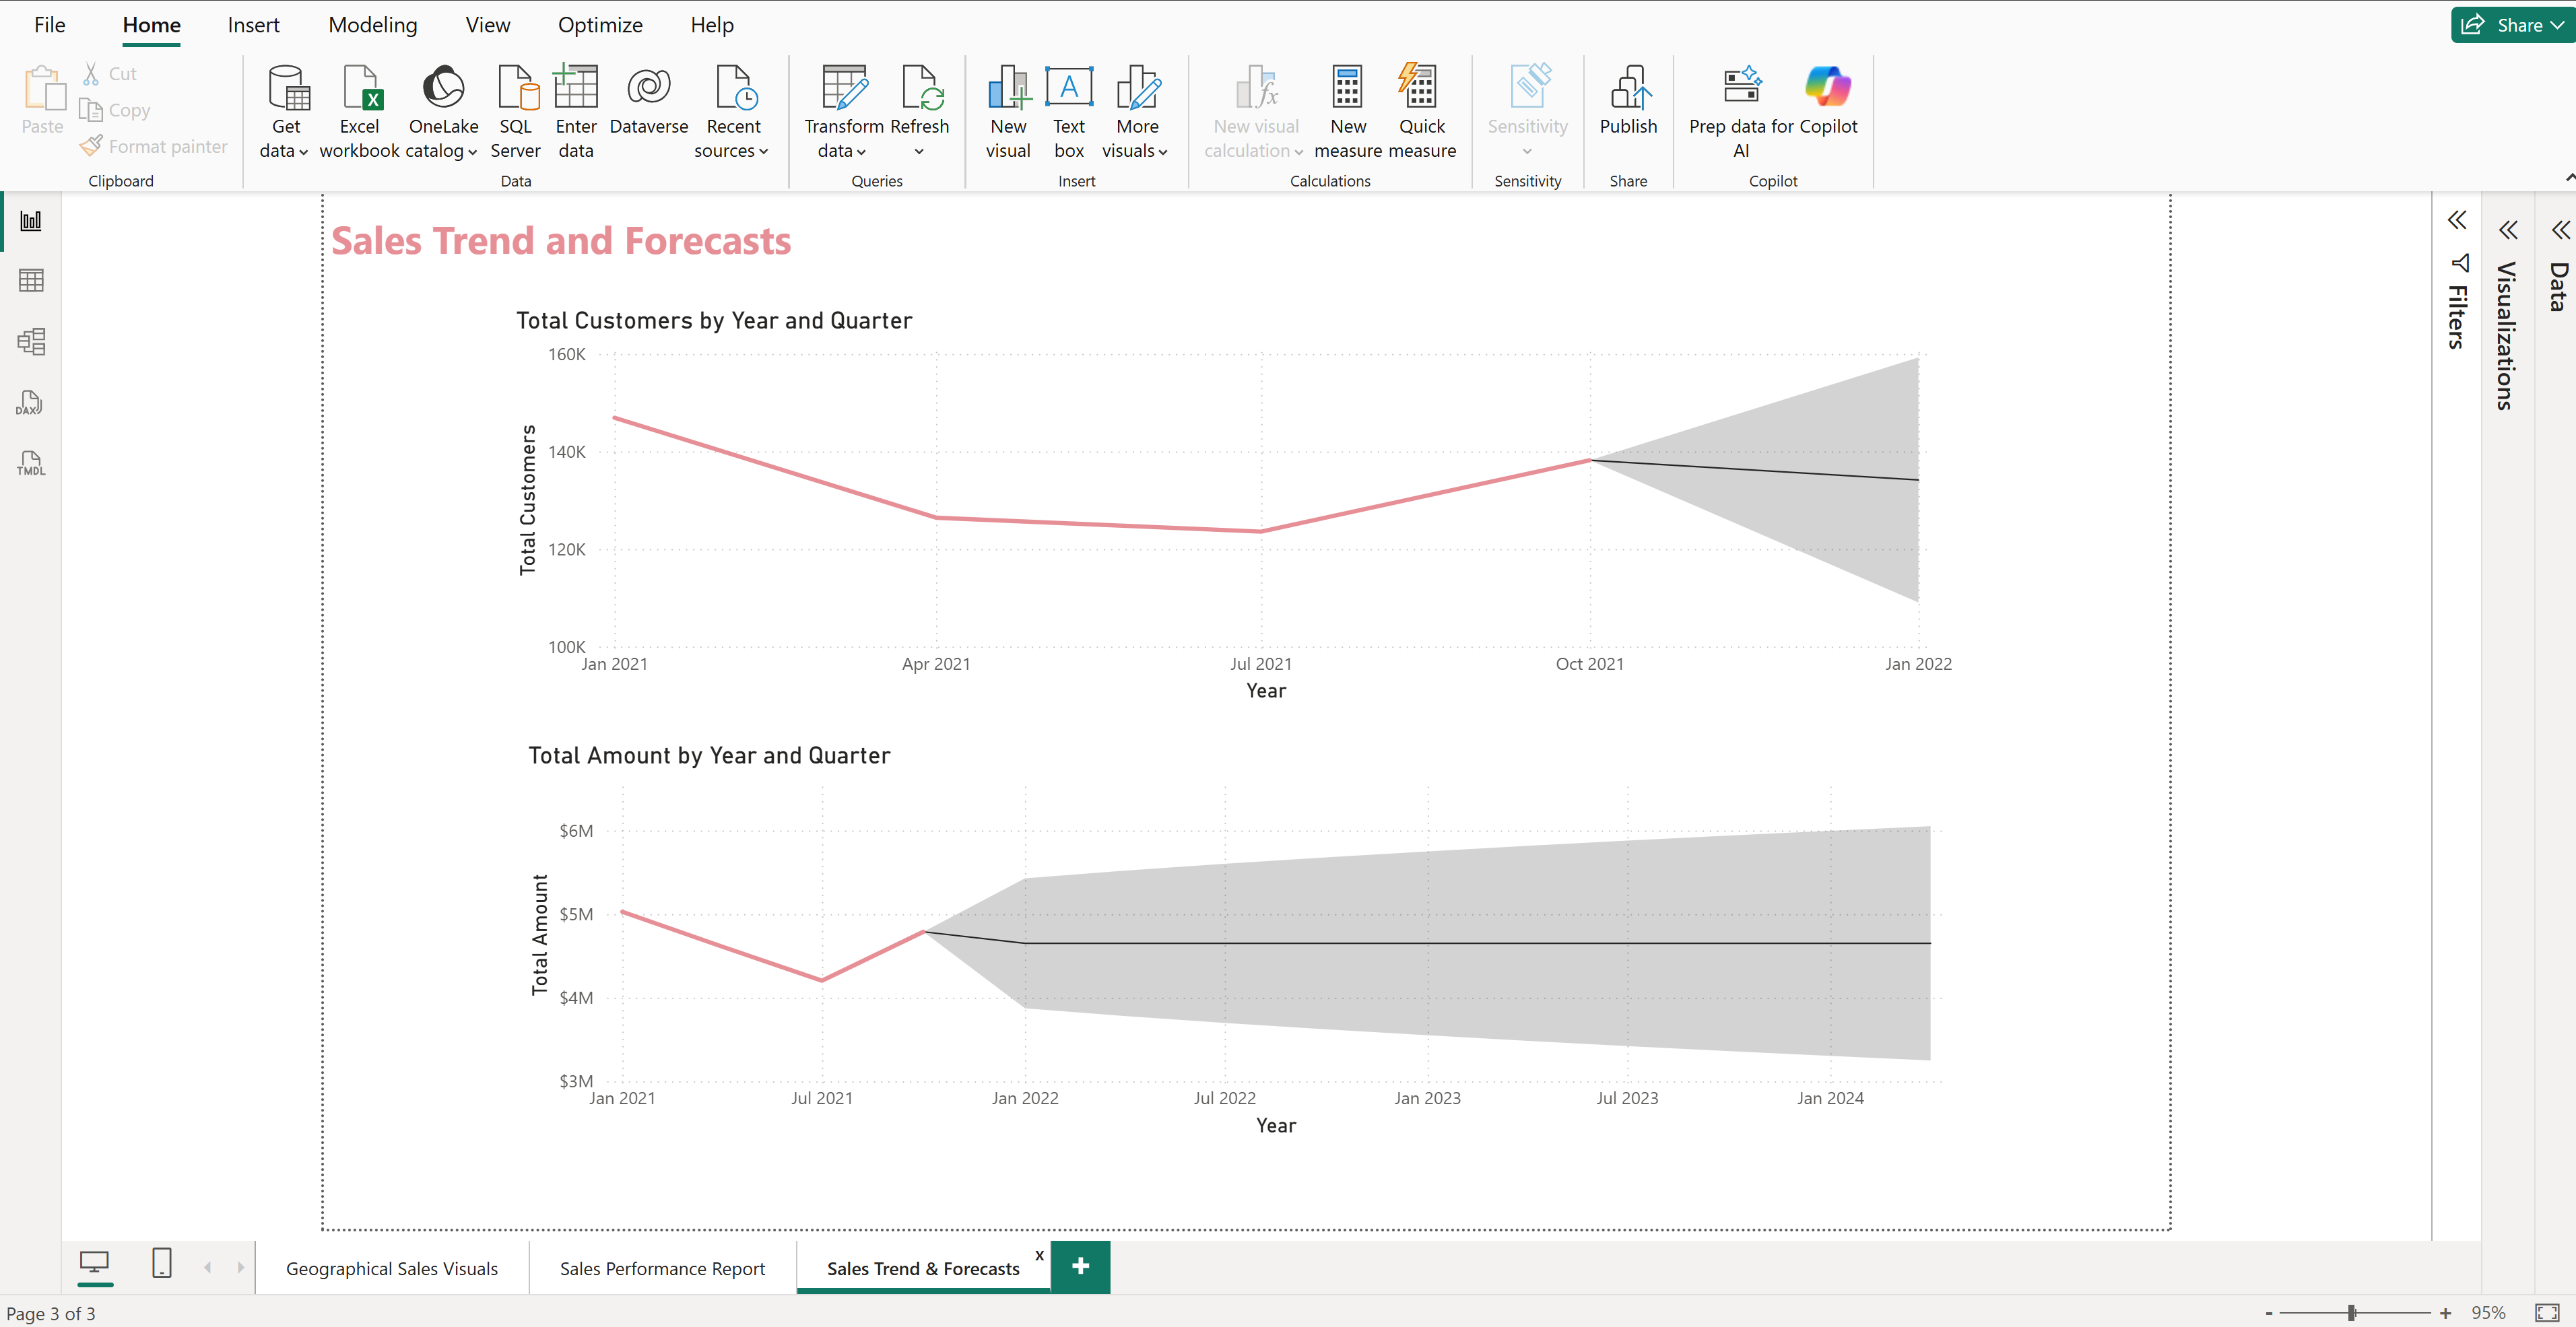

The page's visual inventory and layout, read from the dashboard file:
{"tool":"powerbi","page":{"name":"Sales Trend & Forecasts","canvas":[1280,720],"ordinal":2},"visuals":[{"type":"lineChart","fields":{"Category":["sales.Date.Variation.Date Hierarchy.Year","sales.Date.Variation.Date Hierarchy.Quarter","sales.Date.Variation.Date Hierarchy.Month","sales.Date.Variation.Date Hierarchy.Day"],"Y":["sales.Total Customers"]},"box":[128.3,79.9,1007.1,279.6],"z":0},{"type":"lineChart","fields":{"Category":["sales.Date.Variation.Date Hierarchy.Year","sales.Date.Variation.Date Hierarchy.Quarter","sales.Date.Variation.Date Hierarchy.Month","sales.Date.Variation.Date Hierarchy.Day"],"Y":["sales.Total Amount"]},"box":[136.7,381.6,1007.1,279.6],"z":1000},{"type":"textbox","box":[0,9.3,481.4,54.5],"z":2000}]}

Visuals, with their boxes on the page's 1280x720 design canvas (x1, y1, x2, y2). These are canvas units, not pixel positions in the 2576x1327 screenshot, which may show the page scaled, cropped or inside an application window:
lineChart - sales.Date.Variation.Date Hierarchy.Year x sales.Date.Variation.Date Hierarchy.Quarter: <bbox>128, 80, 1135, 360</bbox>
lineChart - sales.Date.Variation.Date Hierarchy.Year x sales.Date.Variation.Date Hierarchy.Quarter: <bbox>137, 382, 1144, 661</bbox>
textbox: <bbox>0, 9, 481, 64</bbox>
